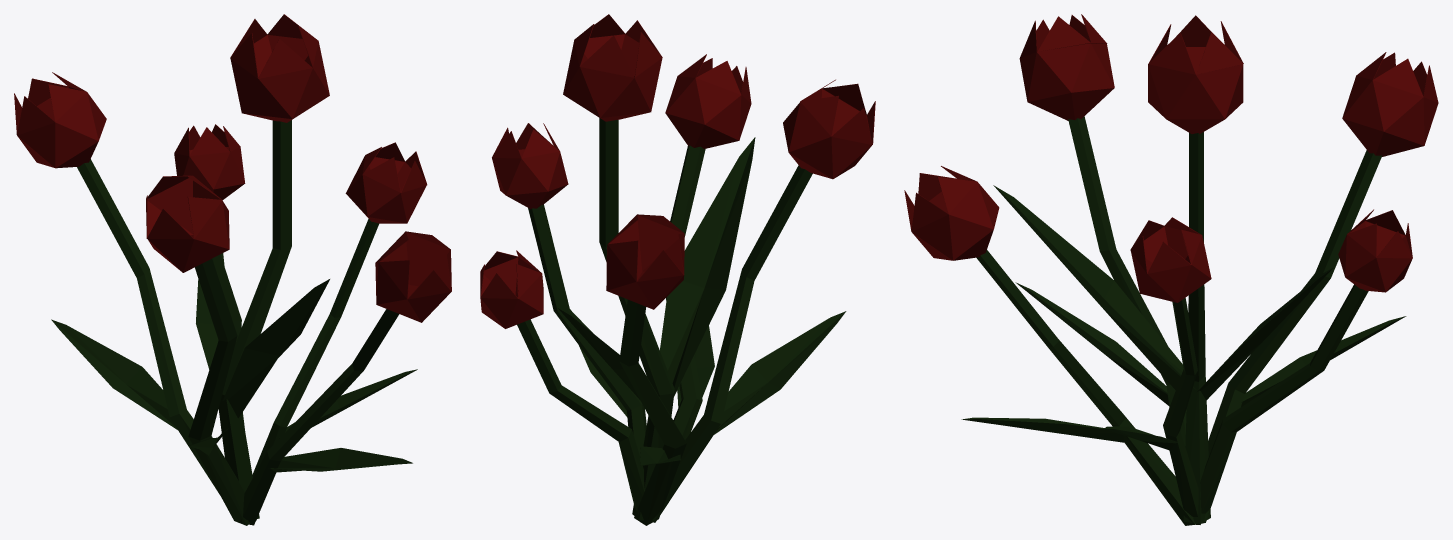
The model's file is Rose.obj.
The picture shows the model from 3 angles, left to right: view 1: azimuth 30°, elevation 25°; view 2: azimuth 150°, elevation 25°; view 3: azimuth 270°, elevation 25°; orthographic projection. The views are drawn at different scales.
Parts seen in each view (by area): view 1: Roses_Icosphere; view 2: Roses_Icosphere; view 3: Roses_Icosphere.
Part boxes in pixels (bbox=[...]): Roses_Icosphere: bbox=[14, 14, 451, 525]; Roses_Icosphere: bbox=[480, 14, 875, 525]; Roses_Icosphere: bbox=[904, 14, 1438, 525].
Bounding box in the file's own units: 0.8184 × 1.2 × 1.12.
